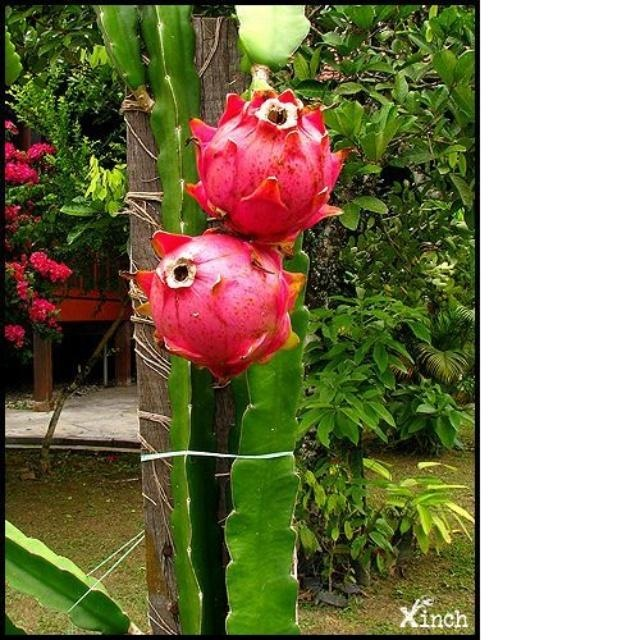xoai: (192, 89, 354, 247), (142, 224, 300, 371)
